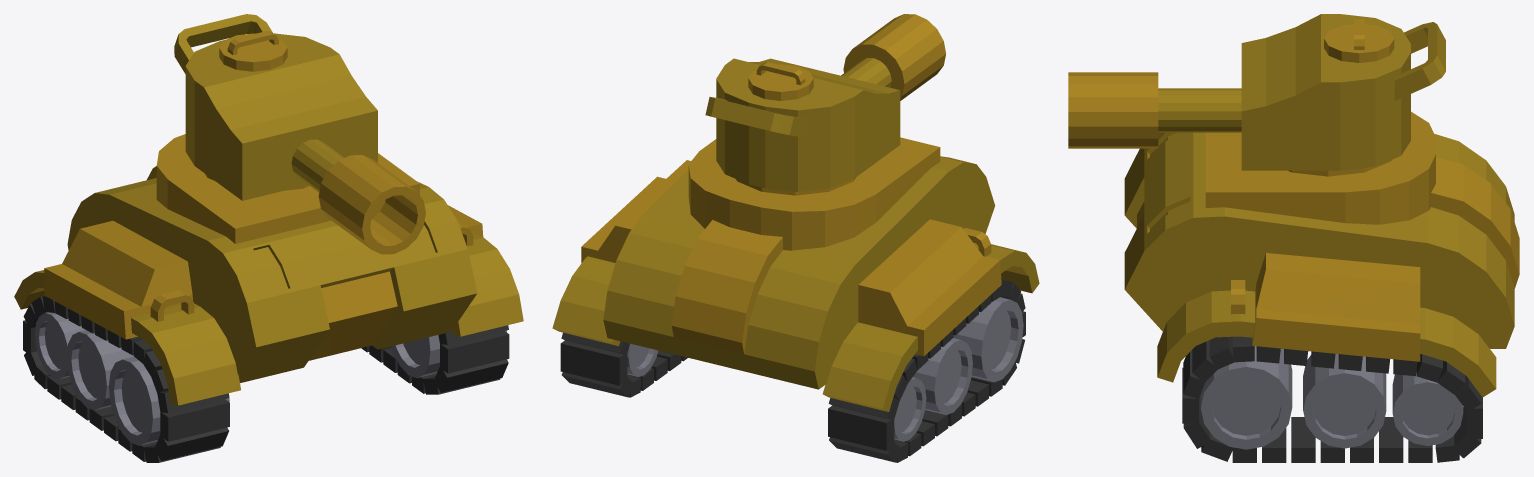
The model's file is battle-tank.glb.
3 views of the same model, side by side, from view 1: azimuth 30°, elevation 25°; view 2: azimuth 150°, elevation 25°; view 3: azimuth 270°, elevation 25° (orthographic). The views are drawn at different scales.
Visible parts, largest first — view 1: battle-tank; view 2: battle-tank; view 3: battle-tank.
Boxes of the visible parts, bbox=[...] form: battle-tank: bbox=[14, 14, 523, 462]; battle-tank: bbox=[552, 14, 1039, 462]; battle-tank: bbox=[1068, 14, 1519, 462].
Size of the model in its own units: 0.9478 by 0.8564 by 1.
